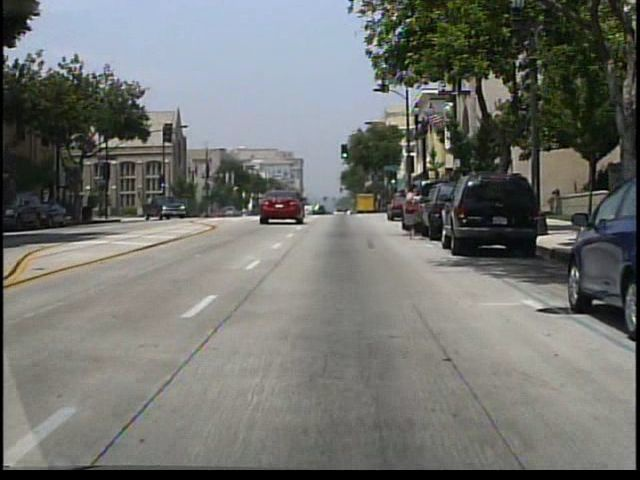person: (403, 182, 431, 241)
